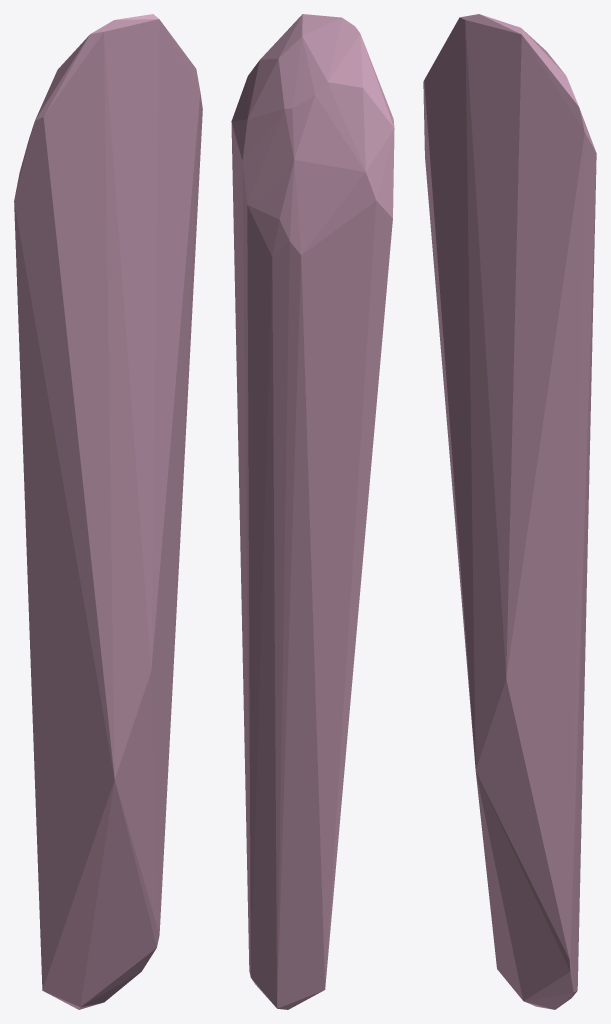
Rendered from kitchenware_spoon_e01.glb.
The picture shows the model from 3 angles, left to right: view 1: azimuth 30°, elevation 25°; view 2: azimuth 150°, elevation 25°; view 3: azimuth 330°, elevation 25°; orthographic projection. The views are drawn at different scales.
Parts seen in each view (by area): view 1: geometry_0; view 2: geometry_0; view 3: geometry_0.
Part boxes in pixels (x1=…): geometry_0: x1=14, y1=14, x2=202, y2=1009; geometry_0: x1=231, y1=14, x2=394, y2=1009; geometry_0: x1=423, y1=14, x2=596, y2=1009.
Size of the model in its own units: 0.0882 by 0.4792 by 0.0482.
